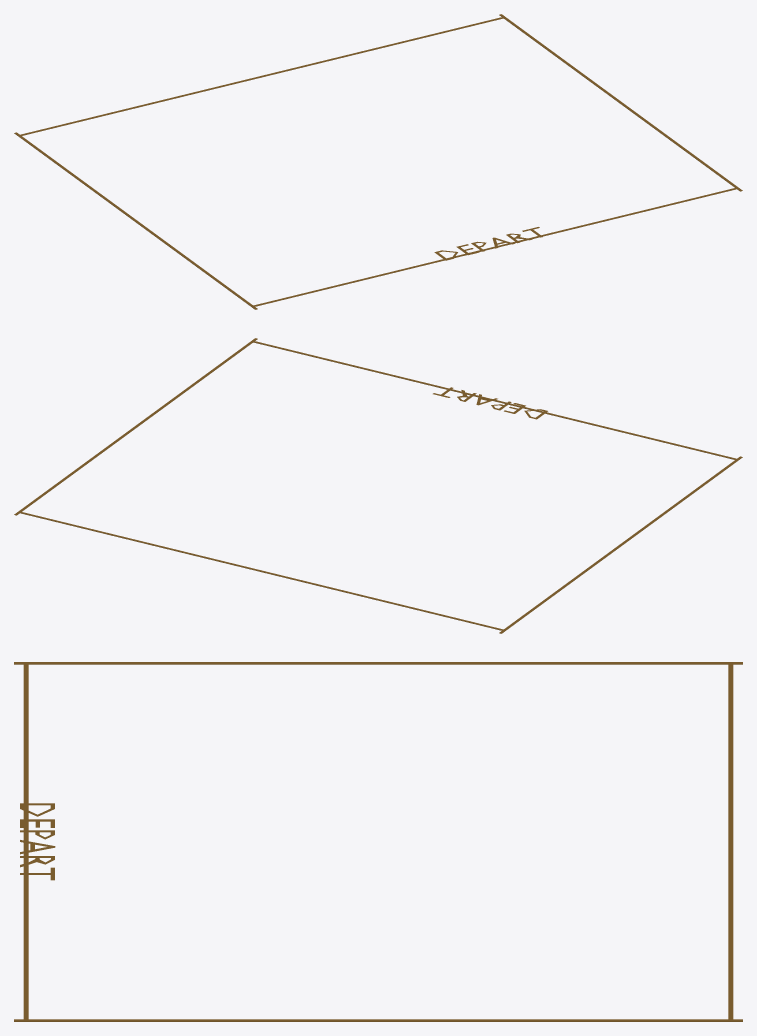
Rendered from start-zone.glb.
3 renders of one model, top to bottom at view 1: azimuth 30°, elevation 25°; view 2: azimuth 150°, elevation 25°; view 3: azimuth 270°, elevation 25°, orthographic. The views are drawn at different scales.
Parts seen in each view (by area): view 1: start-zone; view 2: start-zone; view 3: start-zone.
Boxes of the visible parts, <box> form: start-zone: <box>14,14,742,309</box>; start-zone: <box>14,338,742,633</box>; start-zone: <box>14,662,742,1021</box>.
Bounding box in the file's own units: 14 × 0.02 × 12.
Materials: 1 (1 with a texture image).
